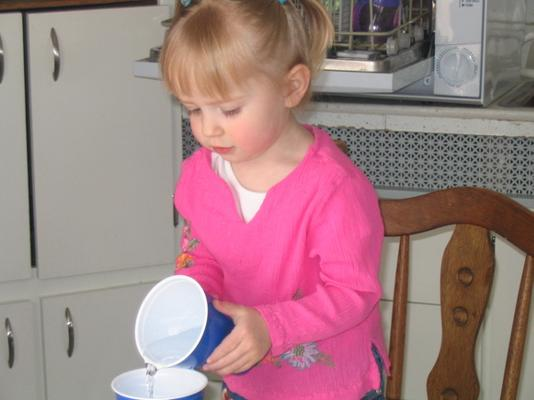person: (161, 2, 392, 400)
